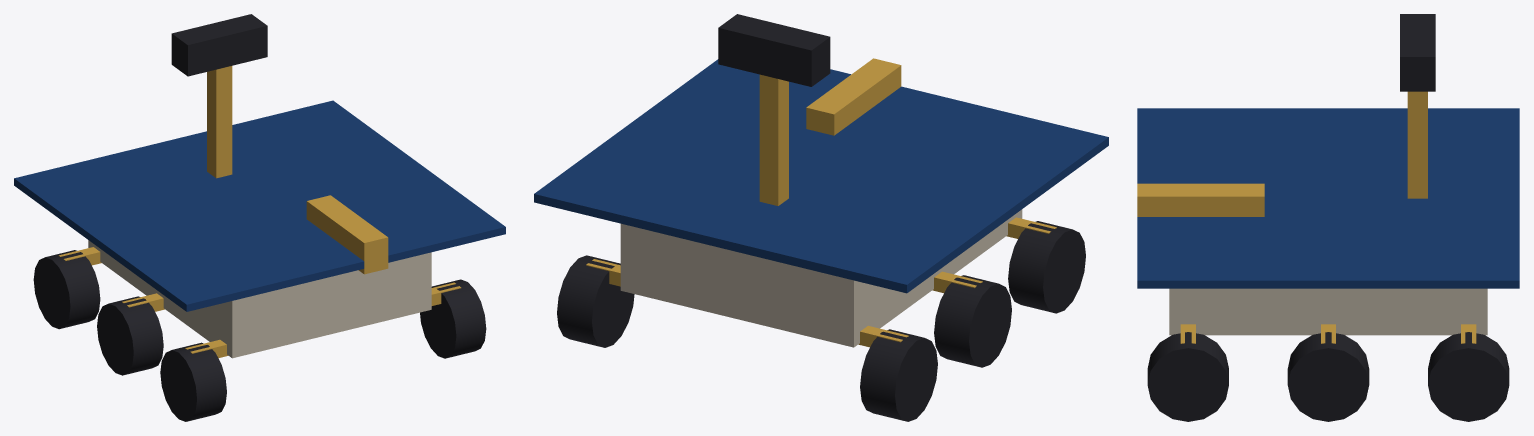
The model's file is sojourner.glb.
3 renders of one model, left to right at view 1: azimuth 30°, elevation 25°; view 2: azimuth 150°, elevation 25°; view 3: azimuth 270°, elevation 25°, orthographic. The views are drawn at different scales.
Bounding box in the file's own units: 1.6 × 1.34 × 1.5.
